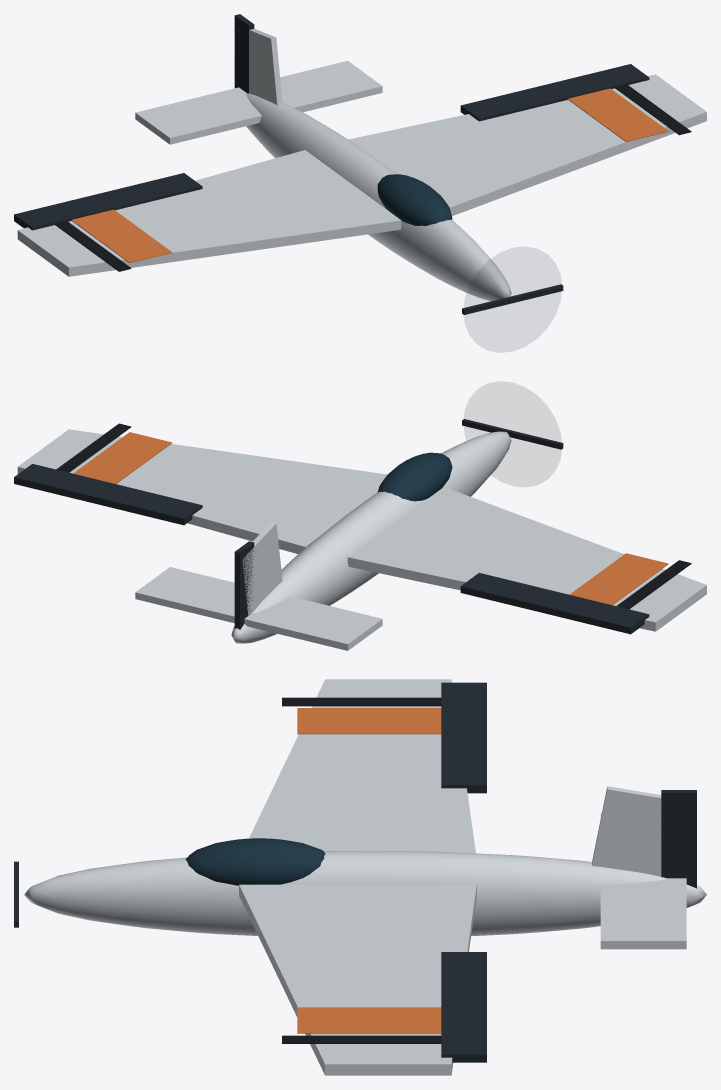
Rendered from v3-rc-cessna-low.glb.
3 views of the same model, one above another, from view 1: azimuth 30°, elevation 25°; view 2: azimuth 150°, elevation 25°; view 3: azimuth 270°, elevation 25° (orthographic). The views are drawn at different scales.
Visible parts, largest first — view 1: surface-detail (×2), elevator, prop-0, wing-identification-stripe (×2), aileron-right, aileron-left, drone-rc-cessna, rudder; view 2: surface-detail (×2), elevator, prop-0, wing-identification-stripe (×2), aileron-right, aileron-left, drone-rc-cessna, rudder; view 3: surface-detail (×2), wing-identification-stripe (×2), elevator, drone-rc-cessna, aileron-left, aileron-right, rudder.
Boxes of the visible parts, left/top/right/bottom form: surface-detail (×2): left=17, top=27, right=706, bottom=301; elevator: left=135, top=61, right=382, bottom=144; prop-0: left=462, top=247, right=563, bottom=352; wing-identification-stripe (×2): left=71, top=88, right=668, bottom=262; aileron-right: left=14, top=173, right=202, bottom=230; aileron-left: left=460, top=64, right=649, bottom=121; drone-rc-cessna: left=377, top=174, right=452, bottom=225; rudder: left=234, top=14, right=254, bottom=93; surface-detail (×2): left=17, top=423, right=706, bottom=643; elevator: left=135, top=567, right=382, bottom=650; prop-0: left=462, top=381, right=563, bottom=486; wing-identification-stripe (×2): left=73, top=432, right=668, bottom=605; aileron-right: left=460, top=573, right=649, bottom=634; aileron-left: left=14, top=464, right=202, bottom=525; drone-rc-cessna: left=377, top=452, right=452, bottom=501; rudder: left=234, top=541, right=254, bottom=629; surface-detail (×2): left=24, top=679, right=706, bottom=1075; wing-identification-stripe (×2): left=297, top=708, right=441, bottom=1033; elevator: left=600, top=812, right=686, bottom=949; drone-rc-cessna: left=185, top=838, right=325, bottom=885; aileron-left: left=441, top=952, right=486, bottom=1062; aileron-right: left=441, top=682, right=486, bottom=793; rudder: left=661, top=790, right=696, bottom=888.
Size of the model in its own units: 1.8 by 0.3733 by 1.37.
